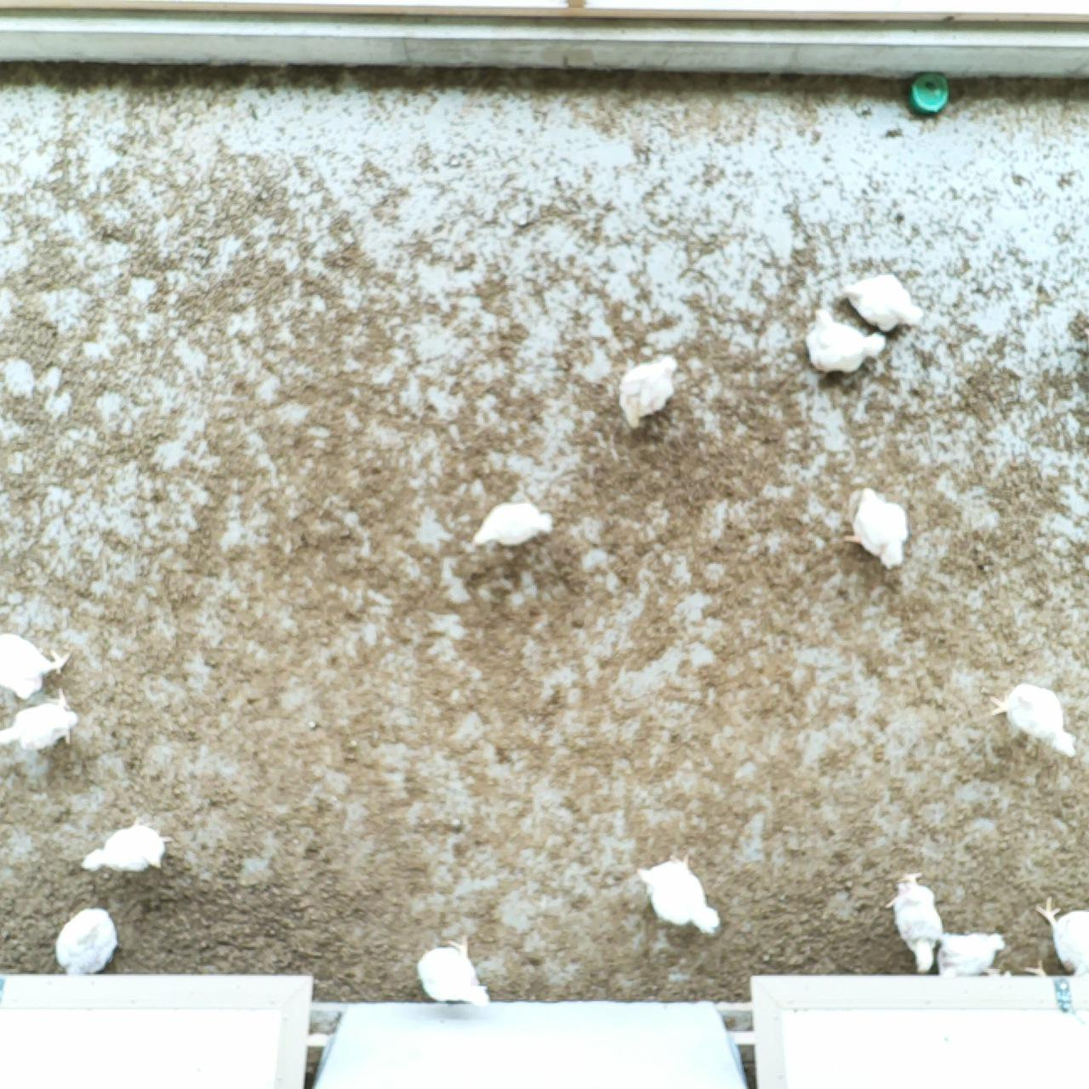chicken: (629, 849, 723, 939), (985, 677, 1082, 762), (880, 866, 948, 974), (838, 485, 912, 577), (412, 930, 497, 1010), (800, 305, 888, 381), (78, 813, 178, 877), (836, 268, 925, 337), (1020, 890, 1089, 978), (0, 687, 83, 757), (463, 495, 558, 556), (0, 627, 74, 703), (50, 904, 120, 978), (932, 928, 1007, 980)
